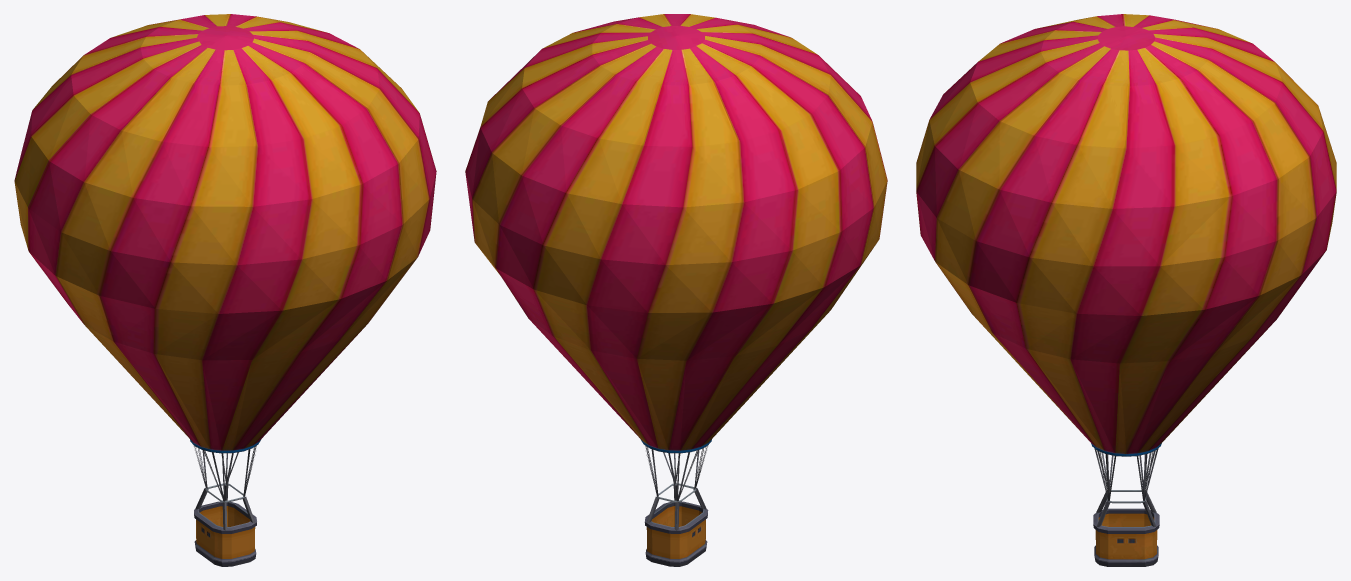
File: TKZC_ReQiQiu_01.fbx
3 views of the same model, side by side, from view 1: azimuth 30°, elevation 25°; view 2: azimuth 150°, elevation 25°; view 3: azimuth 270°, elevation 25° (orthographic).
Visible parts, largest first — view 1: TKZC_ReQiQiu_01; view 2: TKZC_ReQiQiu_01; view 3: TKZC_ReQiQiu_01.
Boxes of the visible parts, <box> form: TKZC_ReQiQiu_01: <box>14,14,436,566</box>; TKZC_ReQiQiu_01: <box>465,14,887,566</box>; TKZC_ReQiQiu_01: <box>916,14,1336,566</box>.
Size of the model in its own units: 47.12 by 64.37 by 47.12.
